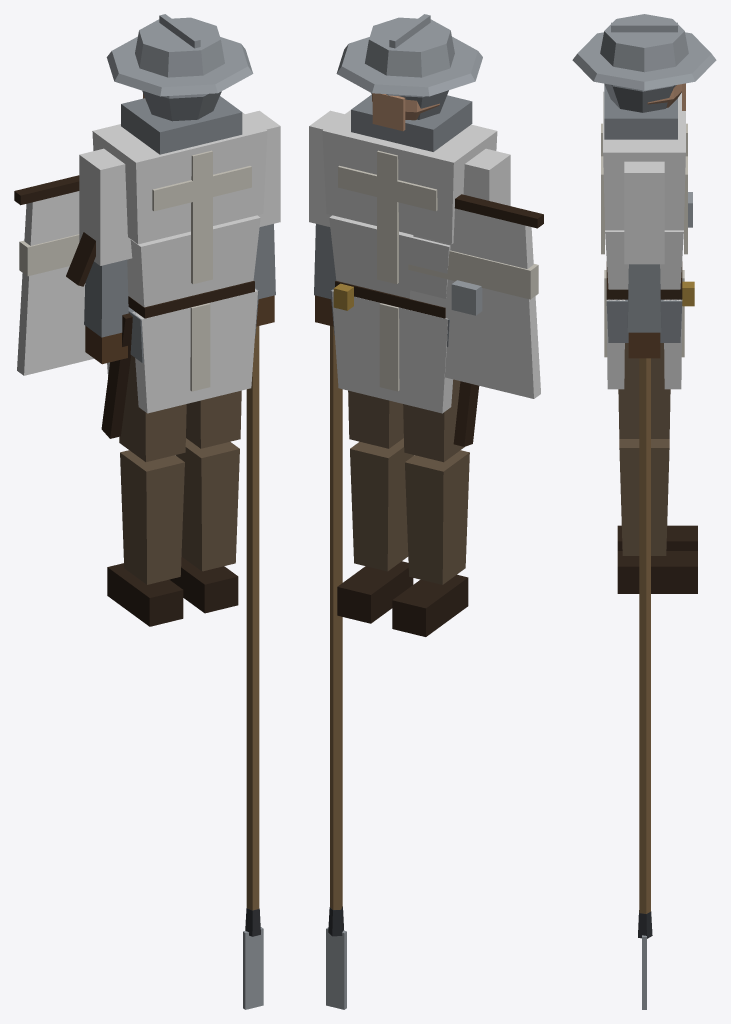
Rendered from soldier_med_spear_lod0.glb.
3 renders of one model, left to right at view 1: azimuth 30°, elevation 25°; view 2: azimuth 150°, elevation 25°; view 3: azimuth 270°, elevation 25°, orthographic. The views are drawn at different scales.
Parts seen in each view (by area): view 1: med_spear_lod0_static; view 2: med_spear_lod0_static; view 3: med_spear_lod0_static.
Part boxes in pixels (x1,y1,x2,y2): med_spear_lod0_static: (14, 14, 280, 1009); med_spear_lod0_static: (309, 14, 543, 1009); med_spear_lod0_static: (572, 14, 716, 1009).
Bounding box in the file's own units: 0.775 × 3.12 × 0.43.
